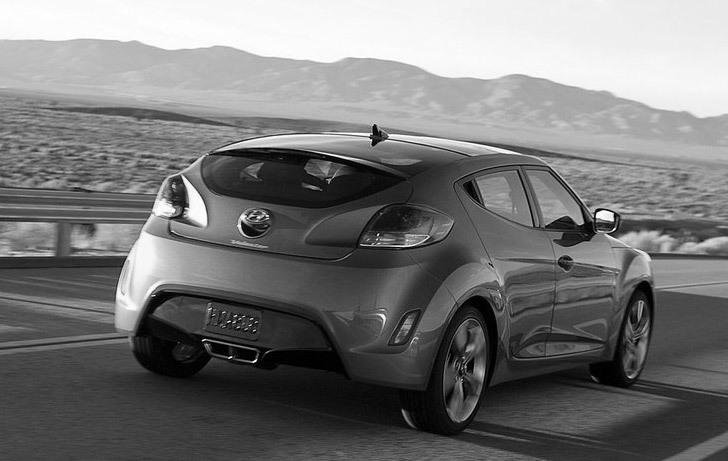car: (111, 123, 657, 436)
